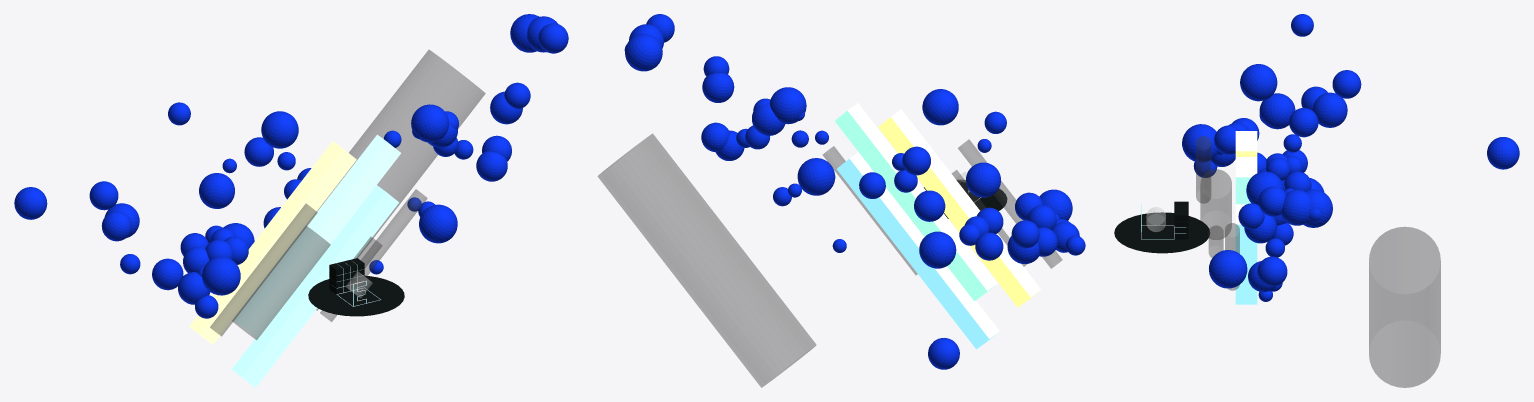
File: good_9.gltf
3 renders of one model, left to right at view 1: azimuth 30°, elevation 25°; view 2: azimuth 150°, elevation 25°; view 3: azimuth 270°, elevation 25°, orthographic. The views are drawn at different scales.
Parts seen in each view (by area): view 1: Cube.032, Cylinder.004, Cube.031, Cube.033, Cylinder.003, Cylinder, Cylinder.005, Cylinder.006, Sphere.040, Sphere.037, Sphere.029, Sphere.038 (+15 smaller); view 2: Cylinder.004, Cube.033, Cube.032, Cube.031, Sphere.040, Sphere.004, Sphere.036, Sphere.038, Sphere.029, Cylinder.005, Sphere.021, Sphere (+20 smaller); view 3: Cylinder.004, Cylinder, Cylinder.003, Cube.033, Sphere.040, Sphere.037, Sphere.038, Sphere.021, Cylinder.005, Sphere.012, Sphere.026, Sphere (+19 smaller).
Boxes of the visible parts, bbox=[...] form: Cube.032: bbox=[234, 134, 400, 338]; Cylinder.004: bbox=[307, 50, 485, 310]; Cube.031: bbox=[189, 141, 356, 344]; Cube.033: bbox=[231, 185, 398, 387]; Cylinder.003: bbox=[232, 226, 330, 339]; Cylinder: bbox=[308, 275, 404, 316]; Cylinder.005: bbox=[210, 204, 317, 336]; Cylinder.006: bbox=[320, 189, 427, 321]; Sphere.040: bbox=[419, 204, 457, 243]; Sphere.037: bbox=[202, 256, 240, 295]; Sphere.029: bbox=[411, 104, 449, 142]; Sphere.038: bbox=[261, 111, 298, 148]; Cylinder.004: bbox=[598, 133, 815, 387]; Cube.033: bbox=[837, 152, 999, 349]; Cube.032: bbox=[835, 103, 997, 301]; Cube.031: bbox=[878, 109, 1040, 307]; Sphere.040: bbox=[797, 158, 835, 195]; Sphere.004: bbox=[625, 34, 662, 71]; Sphere.036: bbox=[919, 231, 956, 268]; Sphere.038: bbox=[922, 89, 958, 125]; Sphere.029: bbox=[769, 87, 806, 124]; Cylinder.005: bbox=[958, 139, 1062, 268]; Sphere.021: bbox=[966, 162, 1000, 197]; Sphere: bbox=[928, 338, 959, 369]; Cylinder.004: bbox=[1369, 227, 1440, 387]; Cylinder: bbox=[1114, 212, 1209, 253]; Cylinder.003: bbox=[1200, 169, 1231, 239]; Cube.033: bbox=[1235, 204, 1257, 304]; Sphere.040: bbox=[1209, 250, 1247, 288]; Sphere.037: bbox=[1182, 124, 1218, 162]; Sphere.038: bbox=[1240, 64, 1277, 101]; Sphere.021: bbox=[1259, 93, 1295, 129]; Cylinder.005: bbox=[1196, 136, 1210, 203]; Sphere.012: bbox=[1312, 92, 1347, 127]; Sphere.026: bbox=[1280, 189, 1310, 225]; Sphere: bbox=[1487, 137, 1519, 169].
Bounding box in the file's own units: 593 × 360 × 463.
